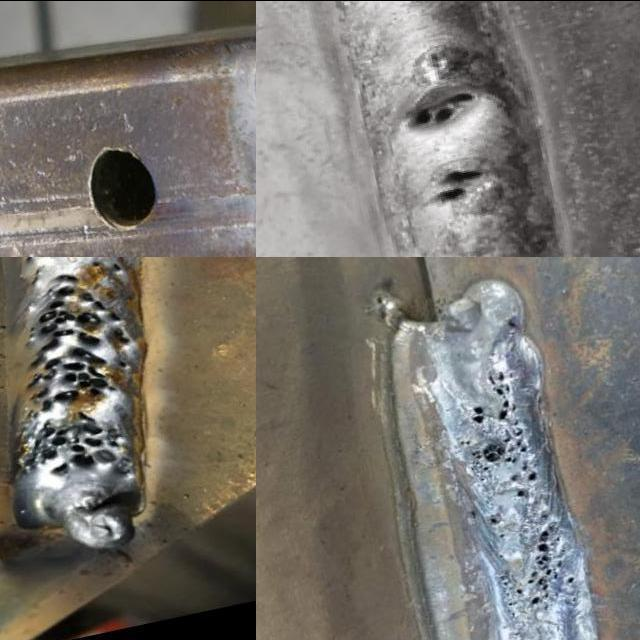defect: (24, 275, 133, 416), (460, 362, 542, 502), (19, 409, 124, 479), (509, 518, 578, 612), (394, 76, 497, 134), (413, 158, 500, 211), (485, 510, 506, 533), (25, 270, 46, 290), (109, 258, 125, 273), (88, 260, 101, 270)
